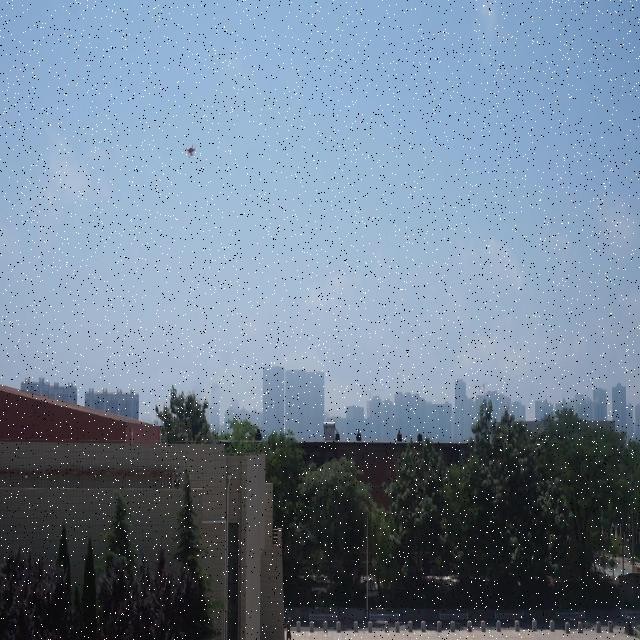UAV: (182, 144, 196, 158)
